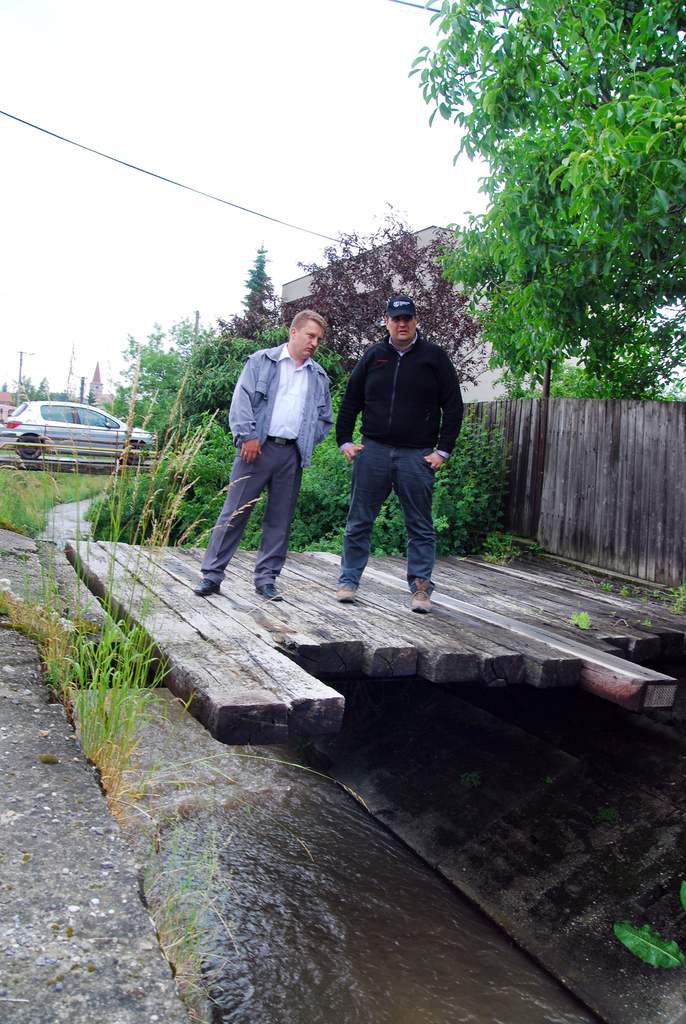Car: (0, 391, 156, 466)
